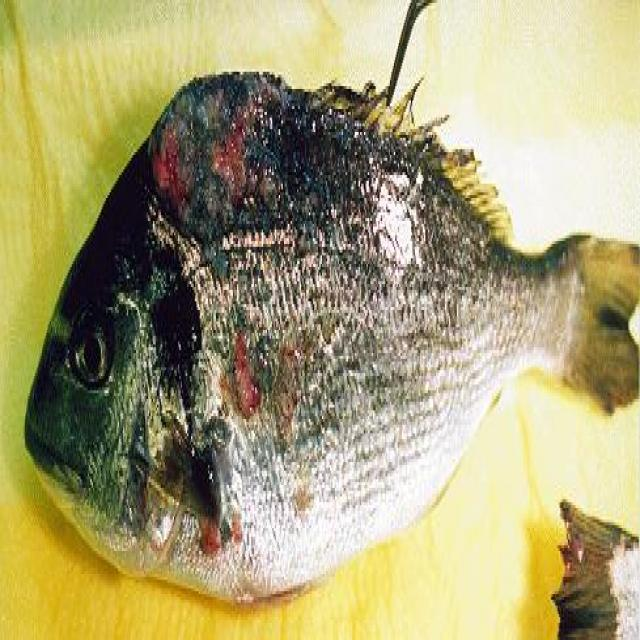EUS Disease: (19, 9, 640, 603), (126, 70, 392, 611)
